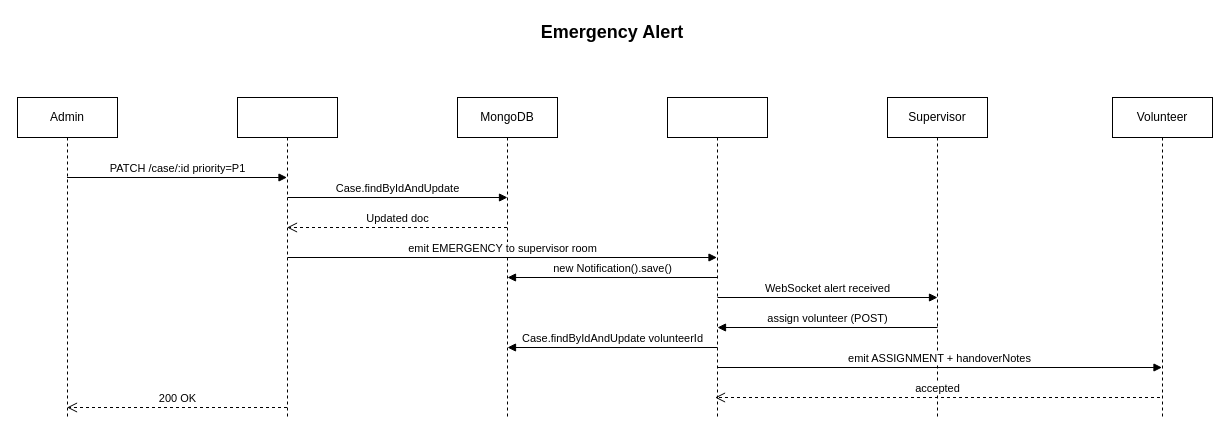
This 1230x435 diagram has some shape labels left out. Each missing label, with the box of its shape:
CaseService: (236, 96, 338, 418)
NotificationService: (666, 96, 768, 418)
